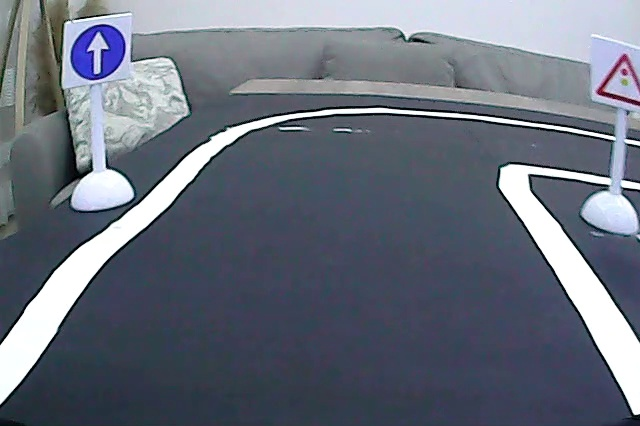red light: (592, 36, 640, 108)
